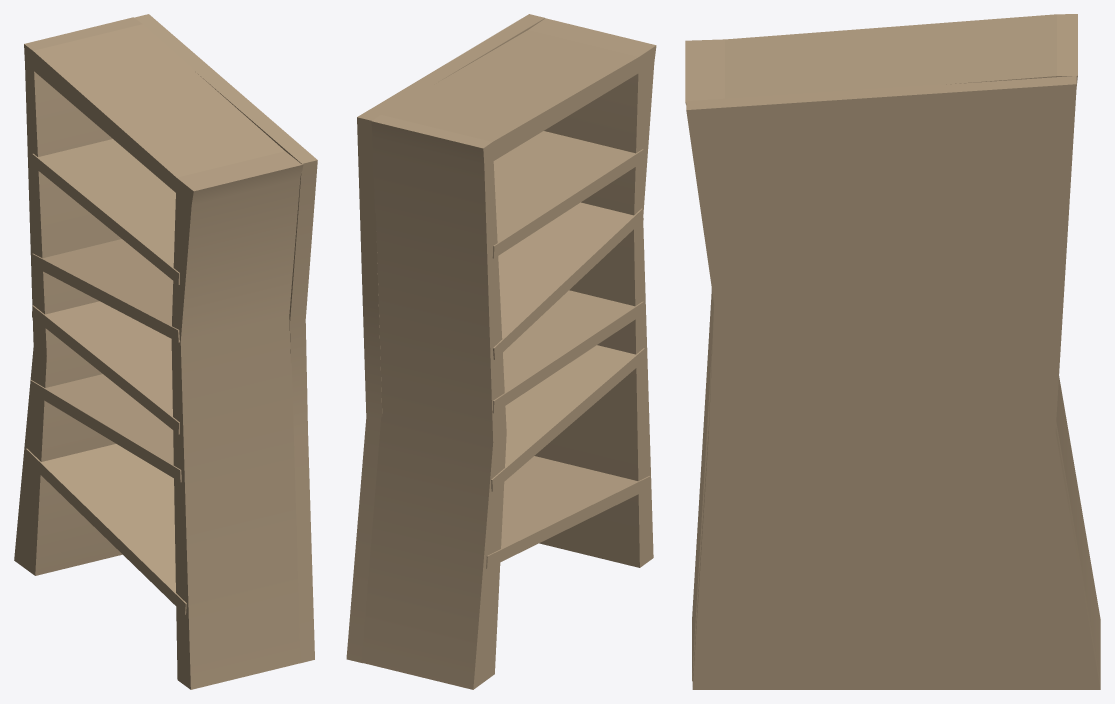
The model's file is 04wonkykast1_nieuwestijl.fbx.
3 views of the same model, side by side, from view 1: azimuth 30°, elevation 25°; view 2: azimuth 150°, elevation 25°; view 3: azimuth 270°, elevation 25° (orthographic). The views are drawn at different scales.
Parts seen in each view (by area): view 1: pCube581; view 2: pCube581; view 3: pCube581.
Part boxes in pixels (x1=…): pCube581: x1=14, y1=14, x2=317, y2=689; pCube581: x1=346, y1=14, x2=656, y2=689; pCube581: x1=685, y1=14, x2=1100, y2=689.
Size of the model in its own units: 0.9361 by 3.73 by 2.32.
